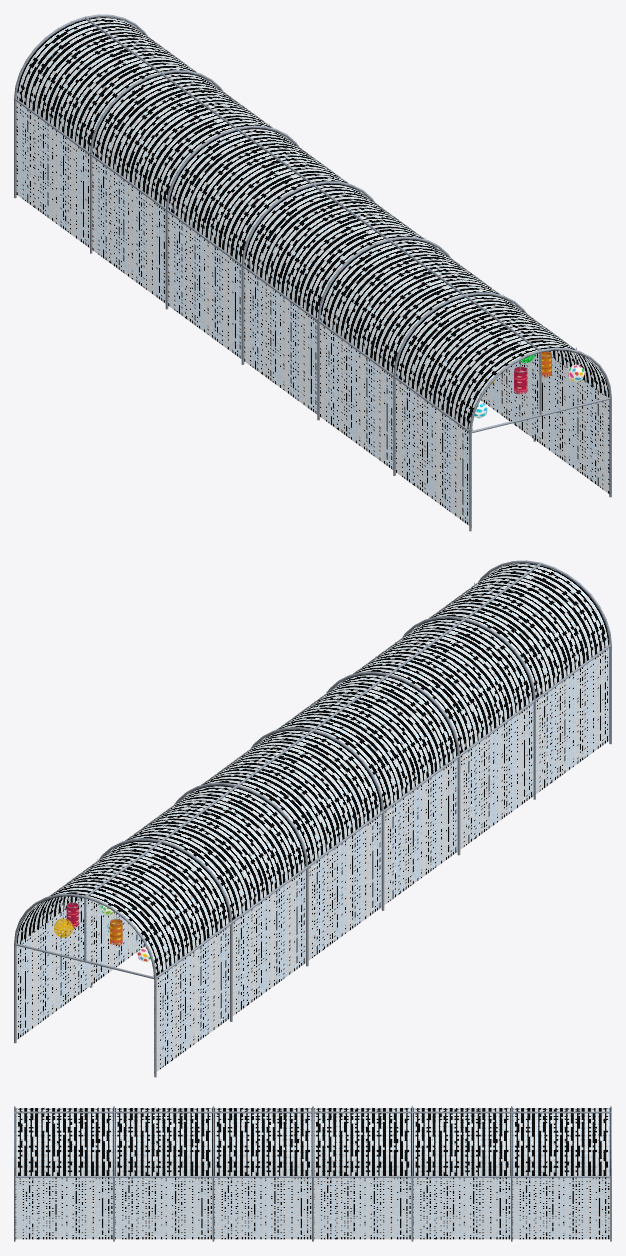
The model's file is tunnel_18m.glb.
The picture shows the model from 3 angles, top to bottom: view 1: azimuth 30°, elevation 25°; view 2: azimuth 150°, elevation 25°; view 3: azimuth 270°, elevation 25°; orthographic projection. The views are drawn at different scales.
Parts seen in each view (by area): view 1: TunnelBay_1, TunnelBay_2, TunnelBay_4, TunnelBay_6, TunnelBay_3, TunnelBay_5, ArchFrame_1, ArchFrame_5, ArchFrame_4, ArchFrame_3, ArchFrame_2, ArchFrame_6 (+1 smaller); view 2: TunnelBay_6, TunnelBay_5, TunnelBay_3, TunnelBay_1, TunnelBay_2, TunnelBay_4, ArchFrame_7, ArchFrame_3, ArchFrame_4, ArchFrame_5, ArchFrame_6, ArchFrame_1 (+1 smaller); view 3: TunnelBay_1, TunnelBay_6, TunnelBay_3, TunnelBay_4, TunnelBay_5, TunnelBay_2, ArchFrame_3, ArchFrame_5, ArchFrame_1, ArchFrame_2, ArchFrame_4, ArchFrame_6 (+1 smaller).
Part boxes in pixels (box(x1,y1,x2,y2)): TunnelBay_1: box(394, 294, 609, 527); TunnelBay_2: box(318, 239, 533, 469); TunnelBay_4: box(166, 128, 359, 358); TunnelBay_6: box(14, 17, 208, 247); TunnelBay_3: box(242, 183, 435, 414); TunnelBay_5: box(90, 72, 283, 303); ArchFrame_1: box(469, 347, 611, 531); ArchFrame_5: box(165, 125, 299, 309); ArchFrame_4: box(241, 181, 375, 364); ArchFrame_3: box(317, 236, 451, 420); ArchFrame_2: box(393, 292, 535, 475); ArchFrame_6: box(90, 70, 223, 253); TunnelBay_6: box(16, 840, 231, 1073); TunnelBay_5: box(92, 785, 307, 1015); TunnelBay_3: box(266, 674, 459, 904); TunnelBay_1: box(417, 563, 611, 793); TunnelBay_2: box(342, 618, 535, 849); TunnelBay_4: box(190, 729, 383, 960); ArchFrame_7: box(14, 893, 156, 1077); ArchFrame_3: box(326, 671, 460, 855); ArchFrame_4: box(250, 727, 384, 910); ArchFrame_5: box(174, 782, 308, 966); ArchFrame_6: box(90, 838, 232, 1021); ArchFrame_1: box(478, 560, 611, 744); TunnelBay_1: box(15, 1107, 113, 1239); TunnelBay_6: box(512, 1108, 610, 1239); TunnelBay_3: box(214, 1107, 312, 1239); TunnelBay_4: box(313, 1107, 411, 1239); TunnelBay_5: box(412, 1107, 511, 1239); TunnelBay_2: box(114, 1107, 213, 1239); ArchFrame_3: box(212, 1106, 214, 1241); ArchFrame_5: box(411, 1106, 413, 1241); ArchFrame_1: box(14, 1106, 15, 1241); ArchFrame_2: box(113, 1106, 114, 1241); ArchFrame_4: box(312, 1106, 313, 1241); ArchFrame_6: box(511, 1106, 512, 1241).
Bounding box in the file's own units: 3.25 × 3.57 × 18.05.
Materials: 20 (18 with a texture image).
